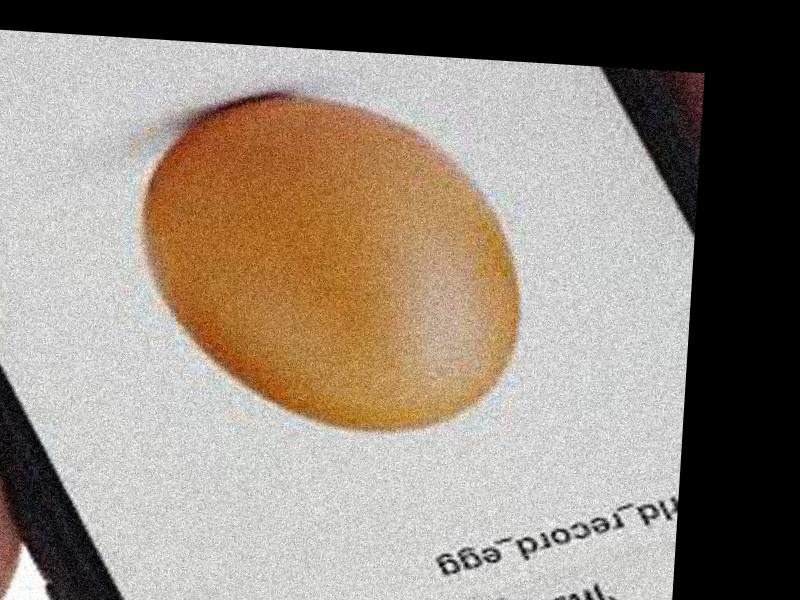Eggs: (130, 89, 530, 440)
